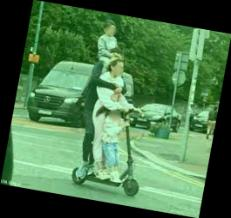multiple: (69, 17, 170, 199)
